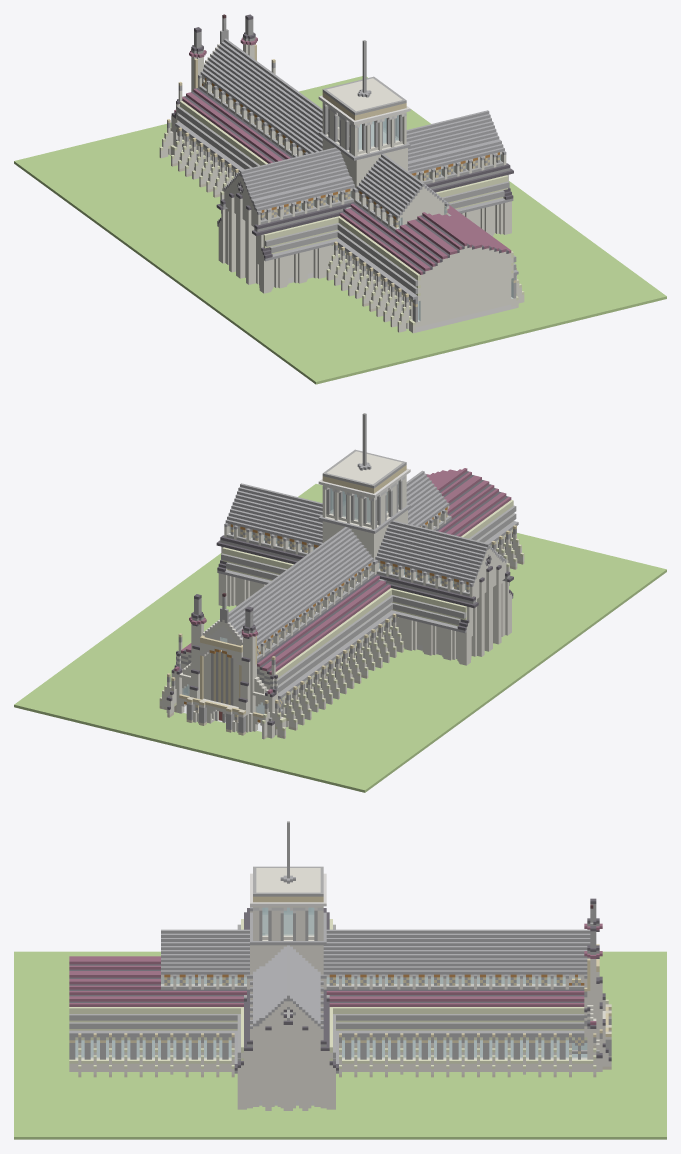
3 views of the same model, one above another, from view 1: azimuth 30°, elevation 25°; view 2: azimuth 150°, elevation 25°; view 3: azimuth 270°, elevation 25° (orthographic). The views are drawn at different scales.
Parts seen in each view (by area): view 1: Grass_Block, Bone_Block, Polished_Andesite_Stairs, Polished_Blackstone_Brick_Slab, End_Stone_Brick_Wall, End_Stone_Brick_Stairs, Polished_Blackstone_Brick_Stairs, Polished_Andesite_Slab, Diorite_Wall, Birch_Fence, End_Stone_Brick_Slab, Sandstone_Wall (+3 smaller); view 2: Grass_Block, Bone_Block, Polished_Andesite_Stairs, End_Stone_Brick_Wall, Polished_Blackstone_Brick_Slab, Polished_Blackstone_Brick_Stairs, End_Stone_Brick_Stairs, Birch_Fence, Diorite_Wall, Polished_Andesite_Slab, Sandstone_Wall, End_Stone_Brick_Slab (+3 smaller); view 3: Grass_Block, Bone_Block, Polished_Andesite_Stairs, End_Stone_Brick_Wall, End_Stone_Brick_Stairs, Polished_Blackstone_Brick_Slab, Polished_Blackstone_Brick_Stairs, Glass, End_Stone_Brick_Slab, White_Carpet, Polished_Andesite_Slab, Birch_Fence (+8 smaller).
Boxes of the visible parts, left/top/right/bottom form: Grass_Block: left=14, top=76, right=666, bottom=384; Bone_Block: left=159, top=44, right=524, bottom=333; Polished_Andesite_Stairs: left=198, top=41, right=506, bottom=218; Polished_Blackstone_Brick_Slab: left=174, top=37, right=511, bottom=274; End_Stone_Brick_Wall: left=167, top=86, right=516, bottom=322; End_Stone_Brick_Stairs: left=159, top=101, right=524, bottom=325; Polished_Blackstone_Brick_Stairs: left=171, top=14, right=513, bottom=274; Polished_Andesite_Slab: left=223, top=38, right=489, bottom=186; Diorite_Wall: left=178, top=40, right=406, bottom=153; Birch_Fence: left=167, top=44, right=516, bottom=297; End_Stone_Brick_Slab: left=175, top=122, right=518, bottom=301; Sandstone_Wall: left=203, top=83, right=503, bottom=226; Grass_Block: left=14, top=484, right=666, bottom=792; Bone_Block: left=159, top=451, right=524, bottom=739; Polished_Andesite_Stairs: left=204, top=474, right=506, bottom=646; End_Stone_Brick_Wall: left=167, top=505, right=516, bottom=722; Polished_Blackstone_Brick_Slab: left=174, top=468, right=511, bottom=693; Polished_Blackstone_Brick_Stairs: left=166, top=471, right=513, bottom=725; End_Stone_Brick_Stairs: left=159, top=500, right=524, bottom=731; Birch_Fence: left=167, top=465, right=516, bottom=717; Diorite_Wall: left=178, top=413, right=406, bottom=732; Polished_Andesite_Slab: left=228, top=462, right=489, bottom=616; Sandstone_Wall: left=211, top=510, right=469, bottom=705; End_Stone_Brick_Slab: left=217, top=521, right=518, bottom=699; Grass_Block: left=14, top=951, right=666, bottom=1139; Bone_Block: left=69, top=868, right=611, bottom=1110; Polished_Andesite_Stairs: left=161, top=907, right=590, bottom=1028; End_Stone_Brick_Wall: left=69, top=924, right=596, bottom=1061; End_Stone_Brick_Stairs: left=69, top=919, right=608, bottom=1068; Polished_Blackstone_Brick_Slab: left=69, top=923, right=602, bottom=1024; Polished_Blackstone_Brick_Stairs: left=69, top=898, right=611, bottom=1070; Glass: left=75, top=977, right=587, bottom=1058; End_Stone_Brick_Slab: left=69, top=1030, right=584, bottom=1073; White_Carpet: left=75, top=1040, right=586, bottom=1056; Polished_Andesite_Slab: left=161, top=875, right=590, bottom=998; Birch_Fence: left=78, top=896, right=611, bottom=1037.
Size of the model in its own units: 14300 by 8100 by 21300.
